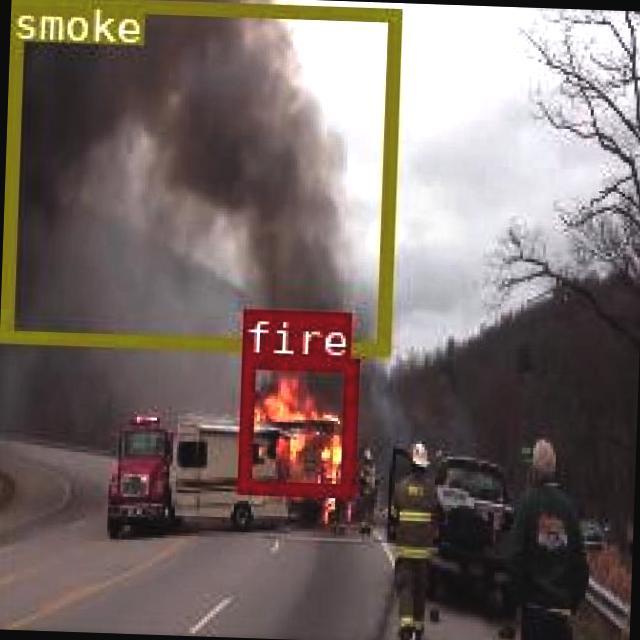fire: (234, 352, 354, 494)
smoke: (0, 0, 400, 351)
